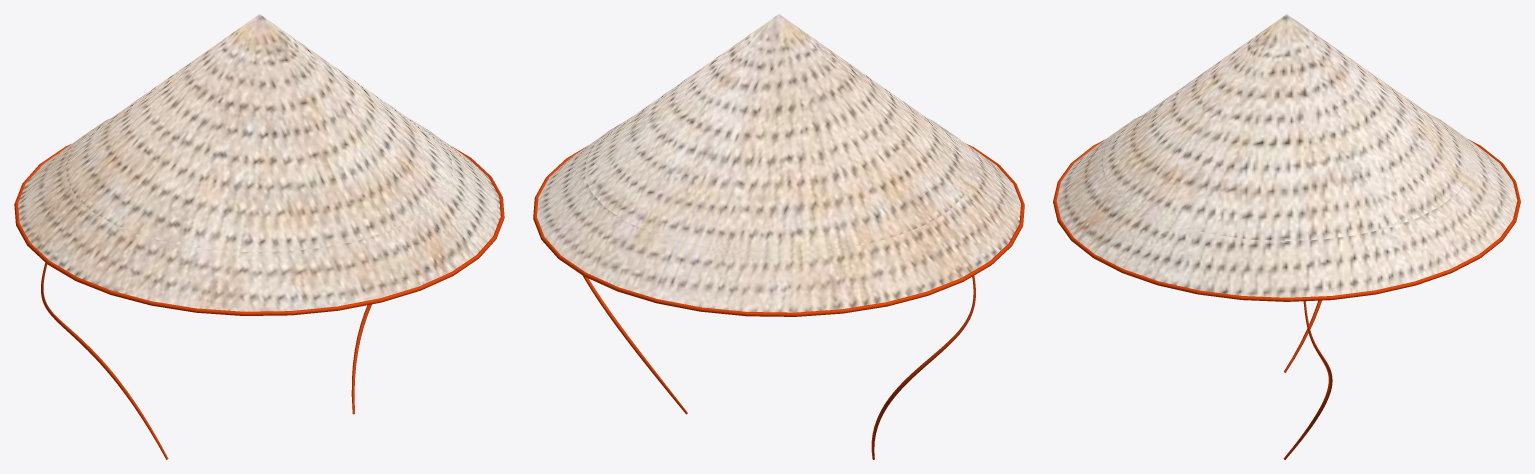
Rendered from sarong.glb.
The picture shows the model from 3 angles, left to right: view 1: azimuth 30°, elevation 25°; view 2: azimuth 150°, elevation 25°; view 3: azimuth 270°, elevation 25°; orthographic projection. The views are drawn at different scales.
Parts seen in each view (by area): view 1: Cone, Cone.001, Cone.002, NurbsPath; view 2: Cone, Cone.001, Cone.002, NurbsPath; view 3: Cone, Cone.001, Cone.002, NurbsPath.
Boxes of the visible parts, x1,y1,x2,y2 form: Cone: (66, 14, 452, 251); Cone.001: (18, 118, 500, 311); Cone.002: (14, 144, 504, 315); NurbsPath: (41, 263, 371, 459); Cone: (585, 14, 972, 252); Cone.001: (537, 118, 1020, 312); Cone.002: (533, 144, 1024, 316); NurbsPath: (583, 275, 975, 459); Cone: (1102, 14, 1471, 240); Cone.001: (1056, 115, 1517, 297); Cone.002: (1053, 139, 1520, 301); NurbsPath: (1283, 300, 1332, 459).
Size of the model in its own units: 4.55 by 4.32 by 4.55.
Materials: 3 (2 with a texture image).
